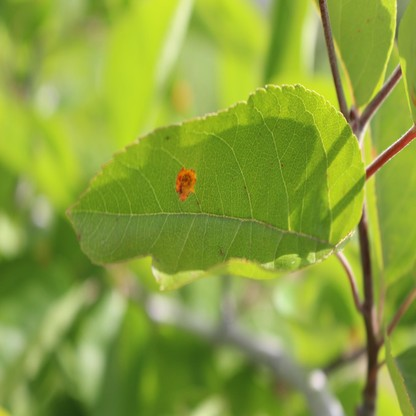rust: (174, 169, 195, 200)
